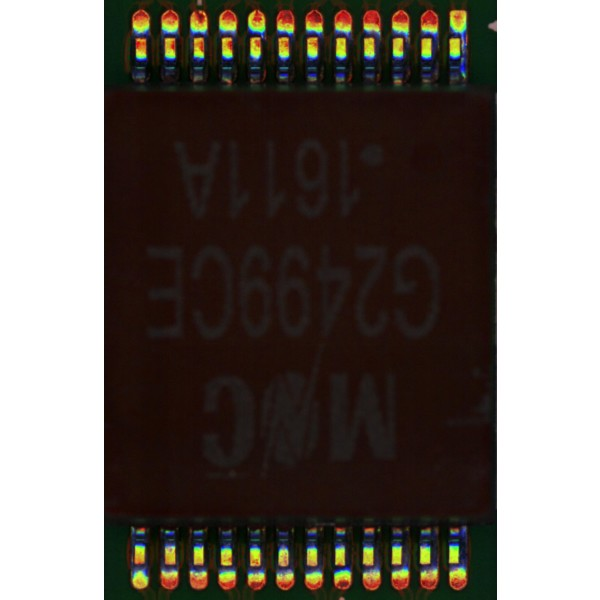Bad_qiaojiao: (461, 32, 467, 78)
